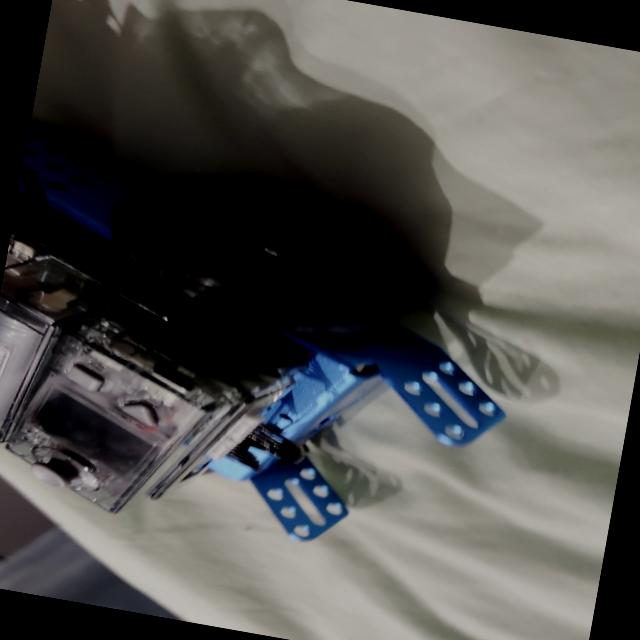mbot-detection: (0, 89, 559, 586)
